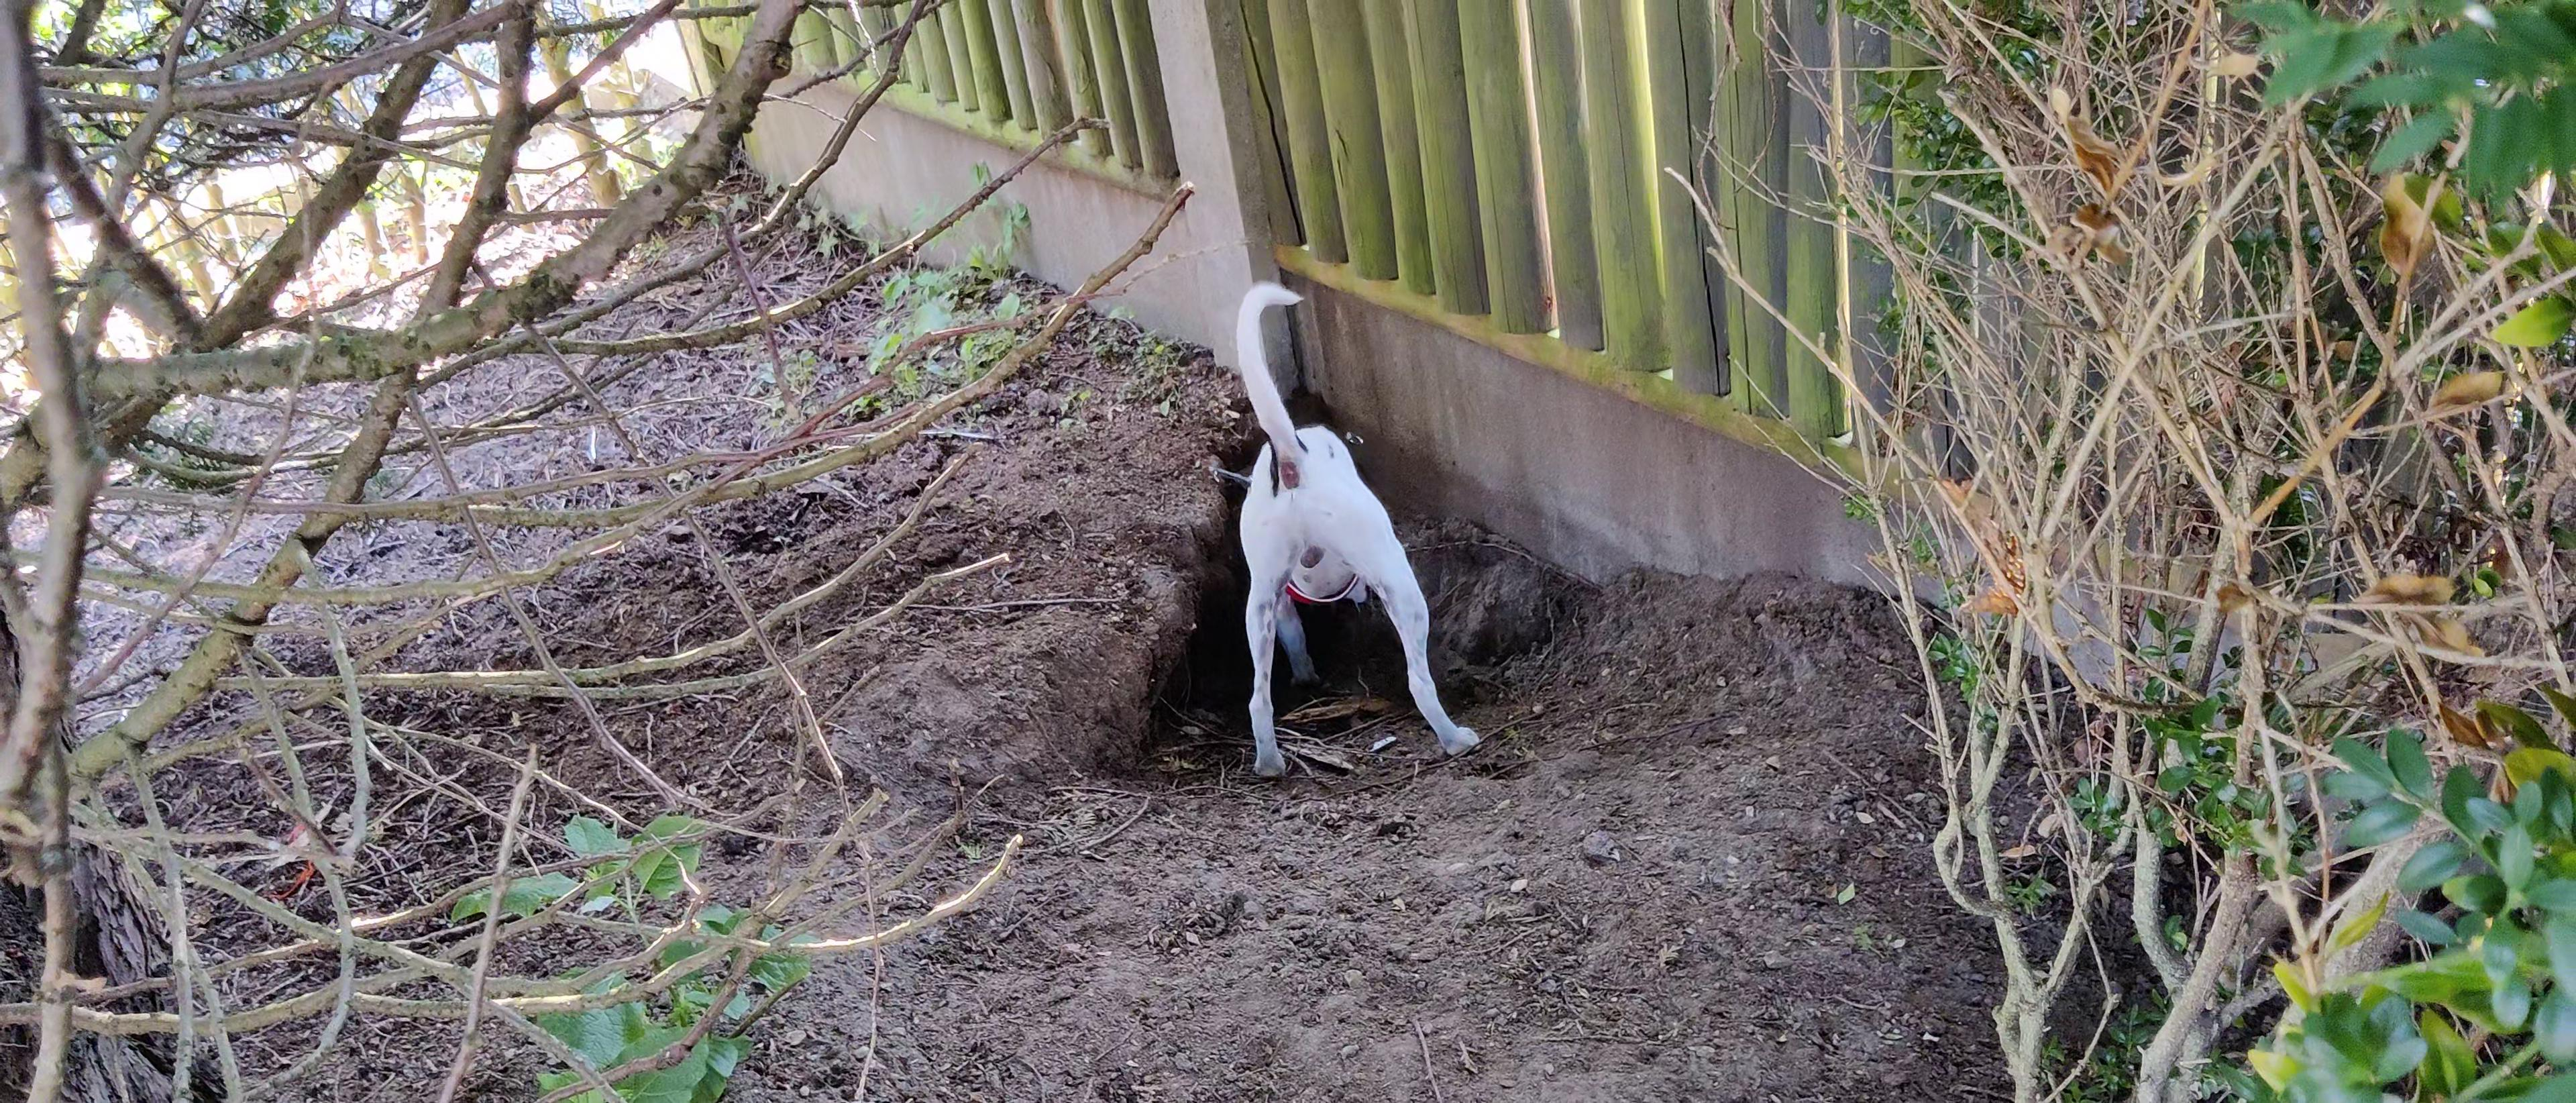Dog: (1175, 260, 1546, 820)
